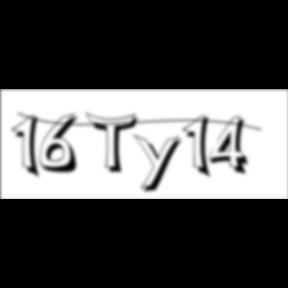1: (12, 114, 46, 182), (182, 114, 216, 182)
4: (208, 115, 256, 179)
6: (40, 112, 84, 176)
T: (86, 112, 144, 176)
y: (134, 132, 188, 196)
